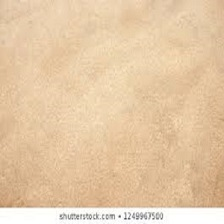sandy_soil: (13, 13, 213, 195)
